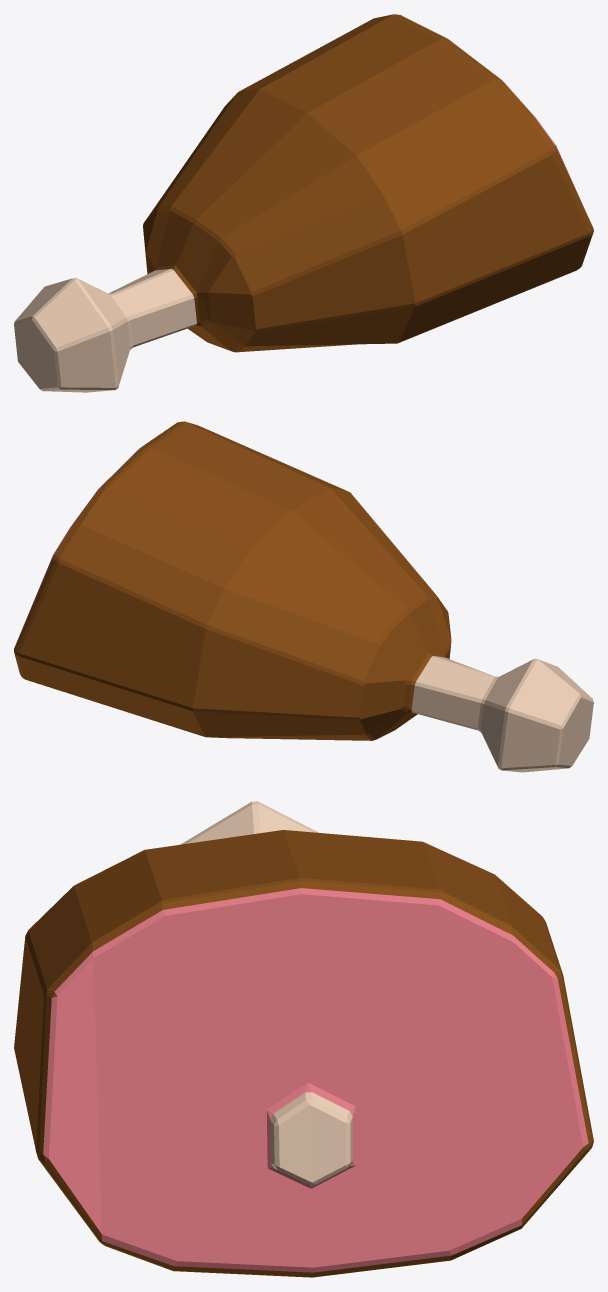
The model's file is Ham.fbx.
The picture shows the model from 3 angles, top to bottom: view 1: azimuth 30°, elevation 25°; view 2: azimuth 150°, elevation 25°; view 3: azimuth 270°, elevation 25°; orthographic projection. The views are drawn at different scales.
Visible parts, largest first — view 1: Ham; view 2: Ham; view 3: Ham.
Boxes of the visible parts, x1,y1,x2,y2 form: Ham: [14, 14, 593, 392]; Ham: [14, 421, 593, 772]; Ham: [14, 801, 593, 1277].
Bounding box in the file's own units: 149 × 71.08 × 95.98.
